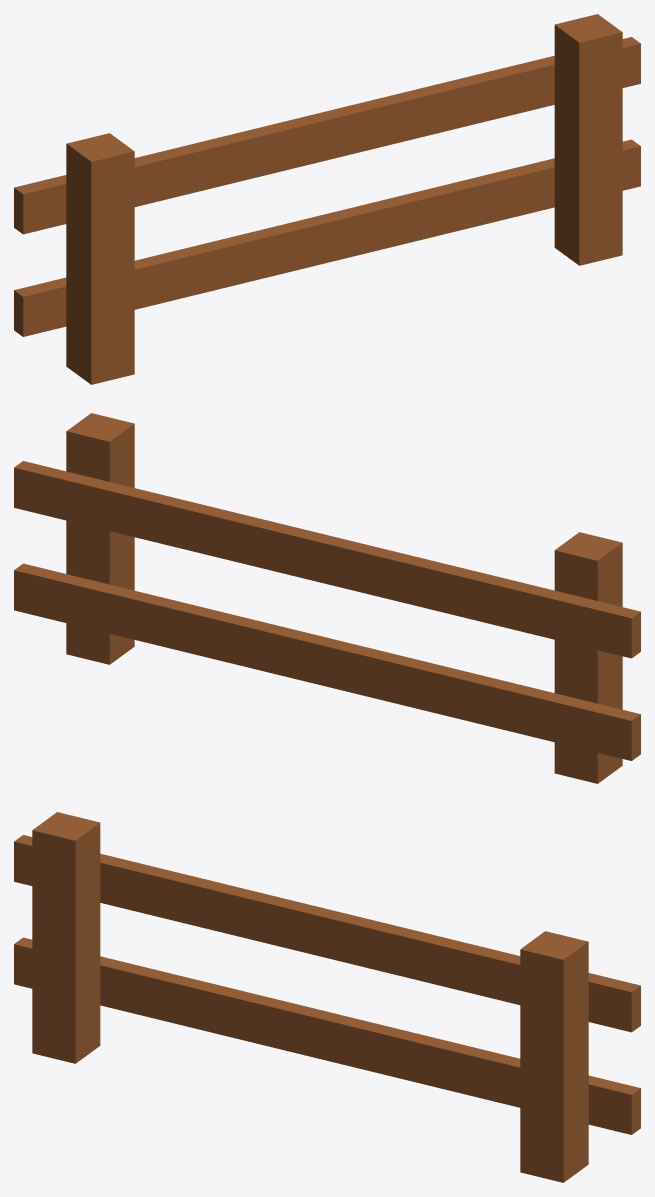
The model's file is fence_planks.glb.
The picture shows the model from 3 angles, top to bottom: view 1: azimuth 30°, elevation 25°; view 2: azimuth 150°, elevation 25°; view 3: azimuth 330°, elevation 25°; orthographic projection.
Parts seen in each view (by area): view 1: fence_planks; view 2: fence_planks; view 3: fence_planks.
Boxes of the visible parts, x1,y1,x2,y2 form: fence_planks: (14, 14, 640, 384); fence_planks: (14, 413, 640, 783); fence_planks: (14, 812, 640, 1182).
Bounding box in the file's own units: 1 × 0.345 × 0.0959.
